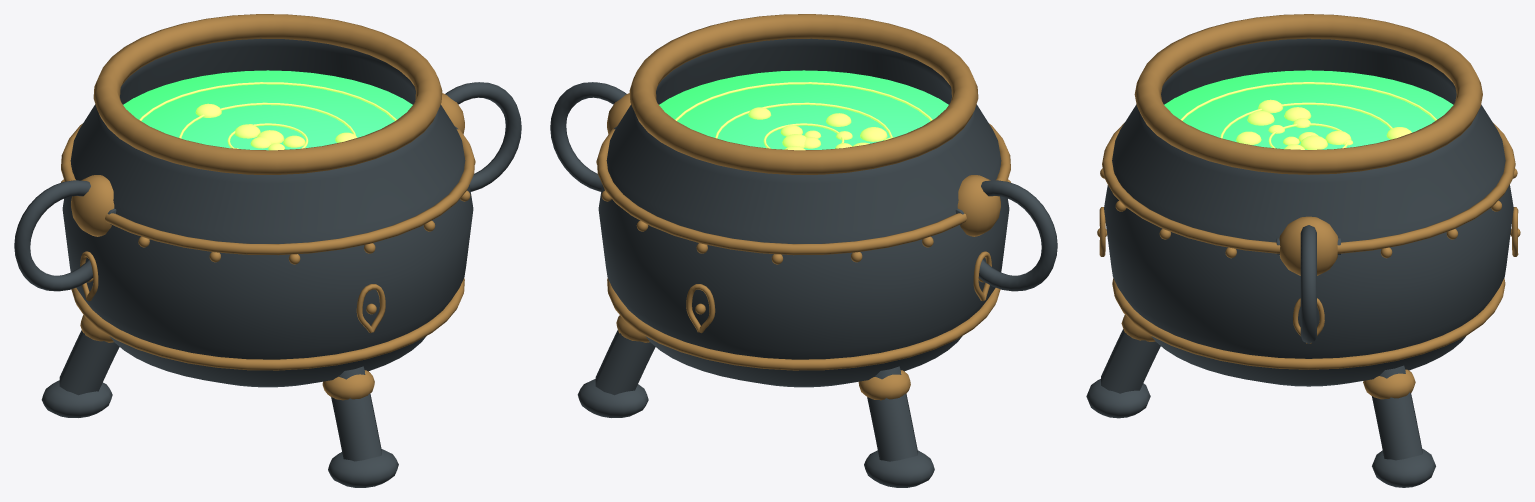
The model's file is Cauldron.glb.
The picture shows the model from 3 angles, left to right: view 1: azimuth 30°, elevation 25°; view 2: azimuth 150°, elevation 25°; view 3: azimuth 270°, elevation 25°; orthographic projection.
Parts seen in each view (by area): view 1: Cauldron_Hollow_Cast_Body, Heavy_Rolled_Rim, Separate_Brew_Volume, Upper_Belly_Band, Lower_Belly_Band, Swing_Handle, Swing_Handle.001, Curved_Cast_Leg.002, Curved_Cast_Leg.001, Handle_Socket, Claw_Foot.002, Claw_Foot.001 (+3 smaller); view 2: Cauldron_Hollow_Cast_Body, Heavy_Rolled_Rim, Separate_Brew_Volume, Upper_Belly_Band, Lower_Belly_Band, Swing_Handle, Swing_Handle.001, Curved_Cast_Leg.001, Curved_Cast_Leg, Handle_Socket, Claw_Foot.001, Claw_Foot (+4 smaller); view 3: Cauldron_Hollow_Cast_Body, Heavy_Rolled_Rim, Separate_Brew_Volume, Upper_Belly_Band, Lower_Belly_Band, Curved_Cast_Leg, Curved_Cast_Leg.002, Handle_Socket.001, Swing_Handle.001, Claw_Foot, Claw_Foot.002, Leg_Brass_Collar (+2 smaller).
Part boxes in pixels (bbox=[...]): Cauldron_Hollow_Cast_Body: bbox=[62, 38, 473, 387]; Heavy_Rolled_Rim: bbox=[93, 14, 442, 174]; Separate_Brew_Volume: bbox=[123, 70, 412, 150]; Upper_Belly_Band: bbox=[61, 123, 474, 255]; Lower_Belly_Band: bbox=[71, 278, 464, 370]; Swing_Handle: bbox=[14, 180, 93, 291]; Swing_Handle.001: bbox=[445, 82, 521, 191]; Curved_Cast_Leg.002: bbox=[331, 366, 381, 461]; Curved_Cast_Leg.001: bbox=[59, 330, 119, 395]; Handle_Socket: bbox=[71, 175, 114, 236]; Claw_Foot.002: bbox=[328, 449, 398, 487]; Claw_Foot.001: bbox=[41, 380, 112, 417]; Cauldron_Hollow_Cast_Body: bbox=[598, 38, 1009, 387]; Heavy_Rolled_Rim: bbox=[629, 14, 978, 174]; Separate_Brew_Volume: bbox=[659, 70, 948, 149]; Upper_Belly_Band: bbox=[597, 123, 1010, 255]; Lower_Belly_Band: bbox=[607, 278, 1000, 370]; Swing_Handle: bbox=[978, 180, 1057, 291]; Swing_Handle.001: bbox=[550, 82, 626, 191]; Curved_Cast_Leg.001: bbox=[867, 366, 917, 461]; Curved_Cast_Leg: bbox=[595, 330, 655, 395]; Handle_Socket: bbox=[957, 175, 1000, 236]; Claw_Foot.001: bbox=[864, 450, 934, 487]; Claw_Foot: bbox=[577, 379, 648, 417]; Cauldron_Hollow_Cast_Body: bbox=[1104, 38, 1513, 386]; Heavy_Rolled_Rim: bbox=[1134, 14, 1482, 174]; Separate_Brew_Volume: bbox=[1164, 70, 1453, 149]; Upper_Belly_Band: bbox=[1102, 122, 1515, 253]; Lower_Belly_Band: bbox=[1112, 278, 1505, 369]; Curved_Cast_Leg: bbox=[1372, 365, 1422, 460]; Curved_Cast_Leg.002: bbox=[1101, 329, 1160, 393]; Handle_Socket.001: bbox=[1279, 216, 1338, 275]; Swing_Handle.001: bbox=[1300, 225, 1316, 343]; Claw_Foot: bbox=[1372, 449, 1435, 487]; Claw_Foot.002: bbox=[1086, 379, 1150, 418]; Leg_Brass_Collar: bbox=[1363, 369, 1415, 399].
Bounding box in the file's own units: 1.19 × 0.745 × 0.89.
